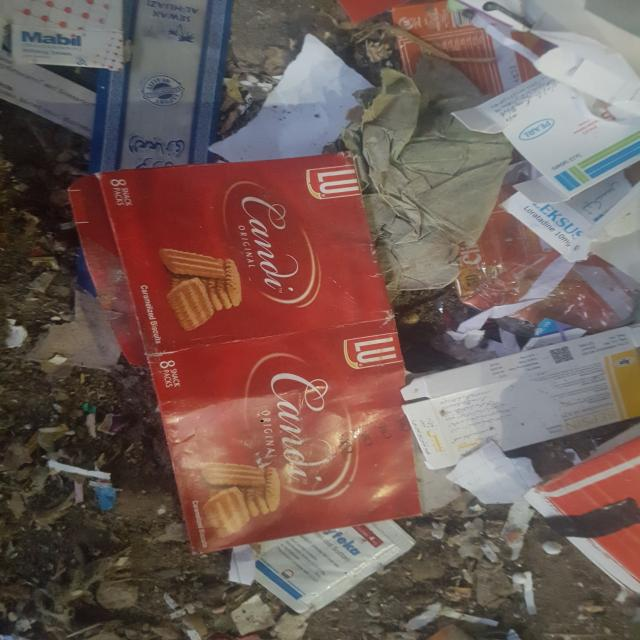electronic: (68, 152, 423, 555), (401, 324, 638, 470), (450, 72, 639, 204), (207, 33, 377, 164), (227, 518, 416, 616), (445, 439, 543, 505)
